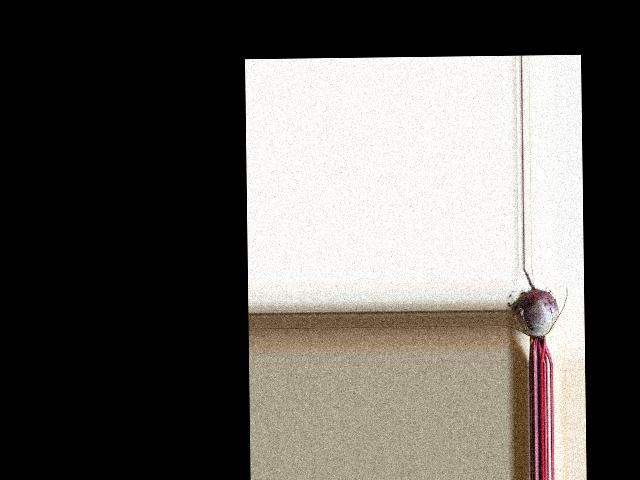beet: (511, 267, 568, 363)
